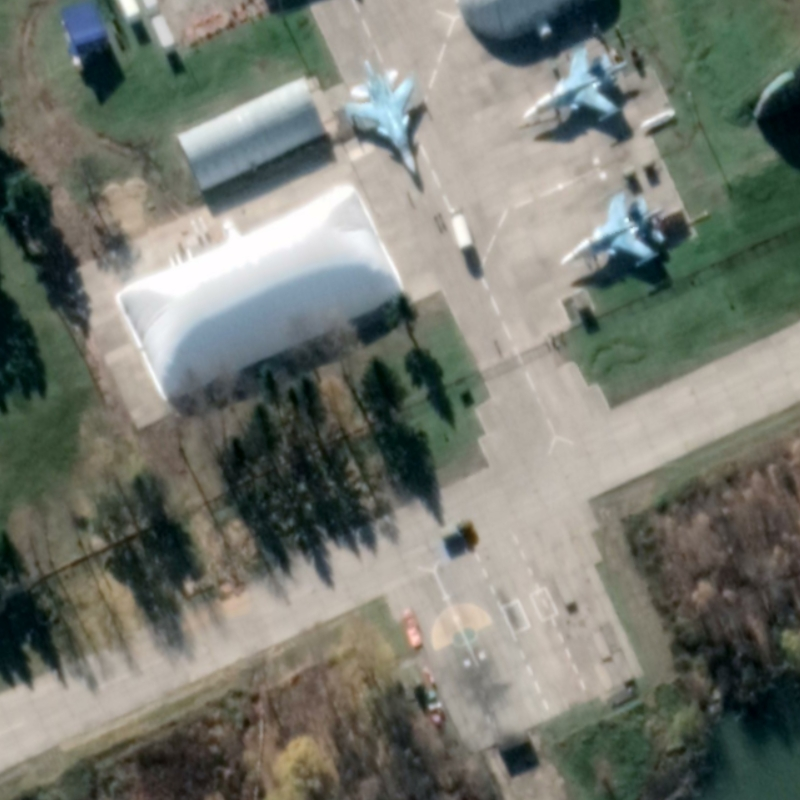A19: (340, 57, 427, 177), (558, 190, 670, 271), (519, 44, 631, 124)
